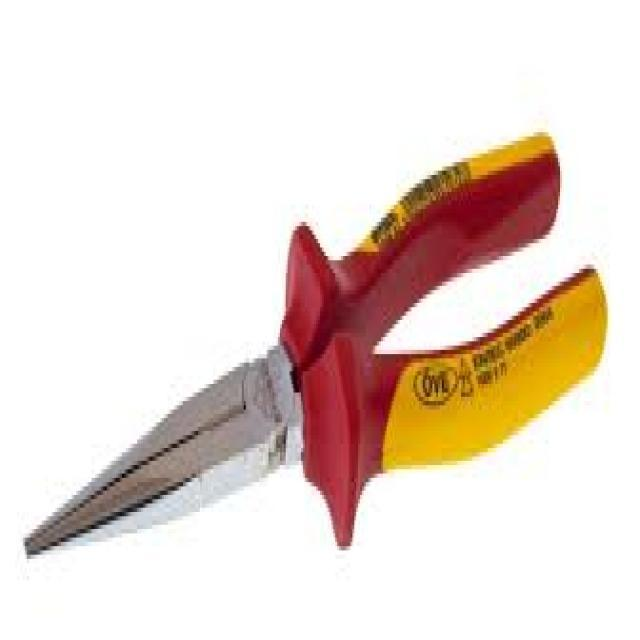pliers: (20, 109, 618, 580)
